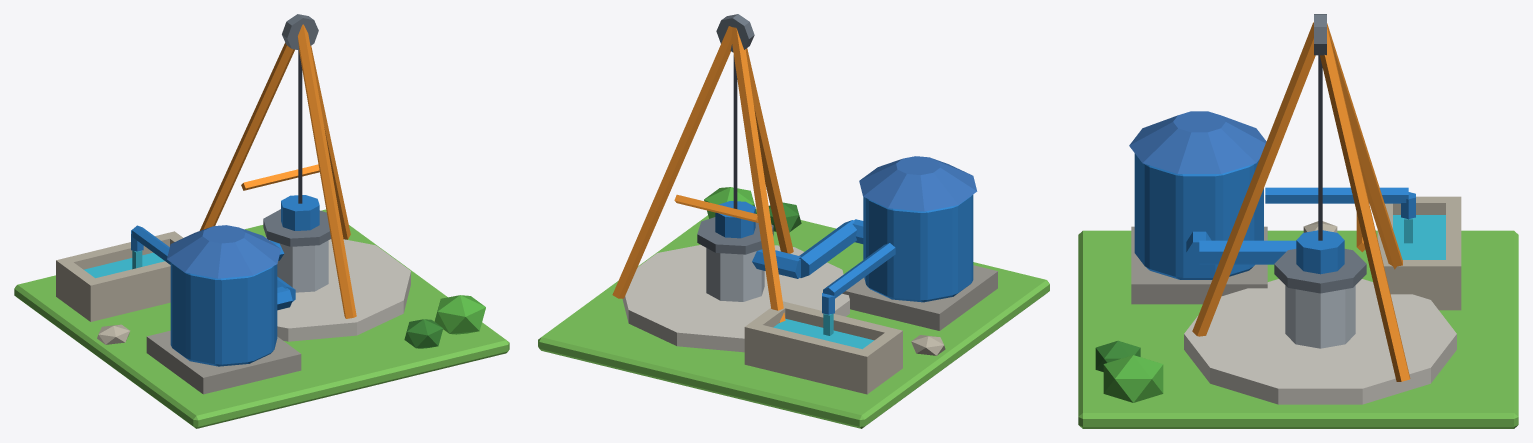
The model's file is water_well.glb.
The picture shows the model from 3 angles, left to right: view 1: azimuth 30°, elevation 25°; view 2: azimuth 150°, elevation 25°; view 3: azimuth 270°, elevation 25°; orthographic projection. The views are drawn at different scales.
Parts seen in each view (by area): view 1: corpo; view 2: corpo; view 3: corpo.
Boxes of the visible parts, x1=… form: corpo: x1=14, y1=14, x2=509, y2=428; corpo: x1=538, y1=14, x2=1049, y2=428; corpo: x1=1078, y1=14, x2=1518, y2=428.
Bounding box in the file's own units: 2 × 1.76 × 2.
